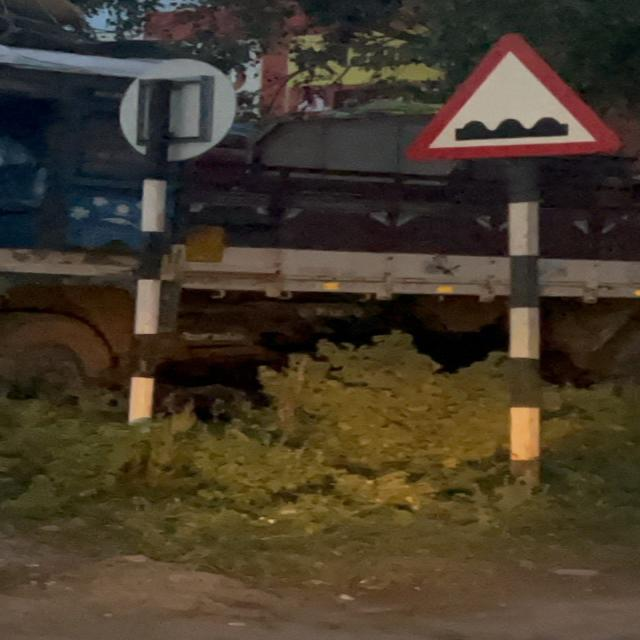Rumble_strip: (397, 32, 613, 160)
